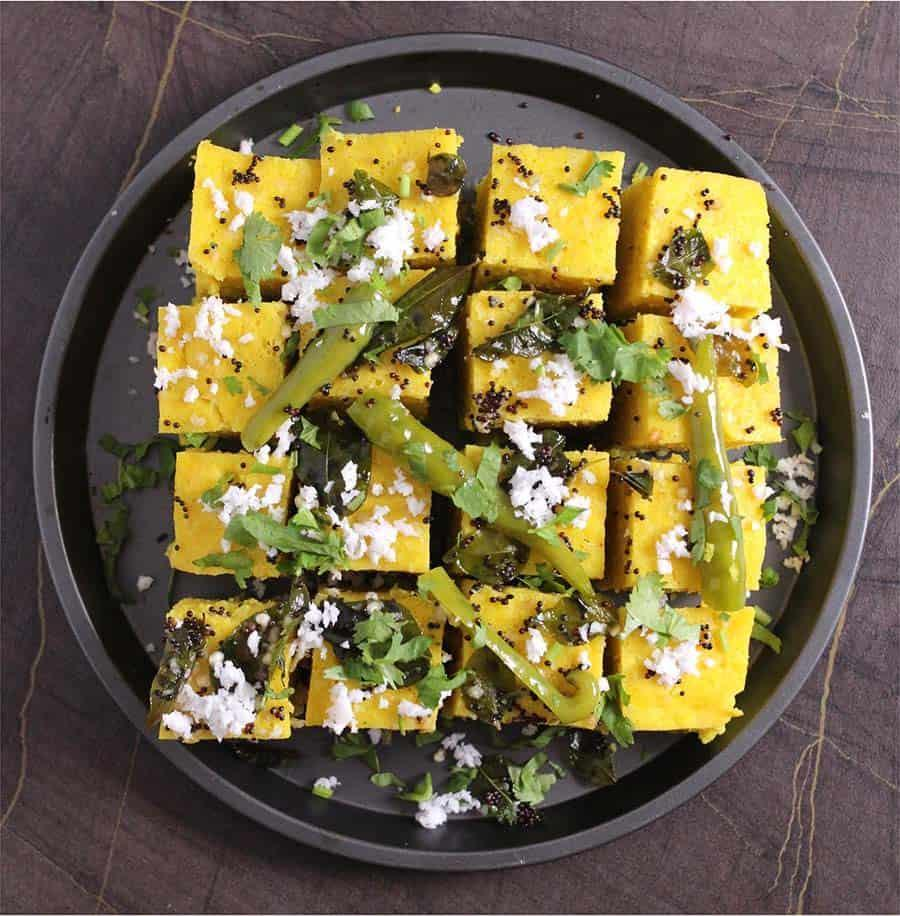dhokla: (170, 119, 760, 745)
